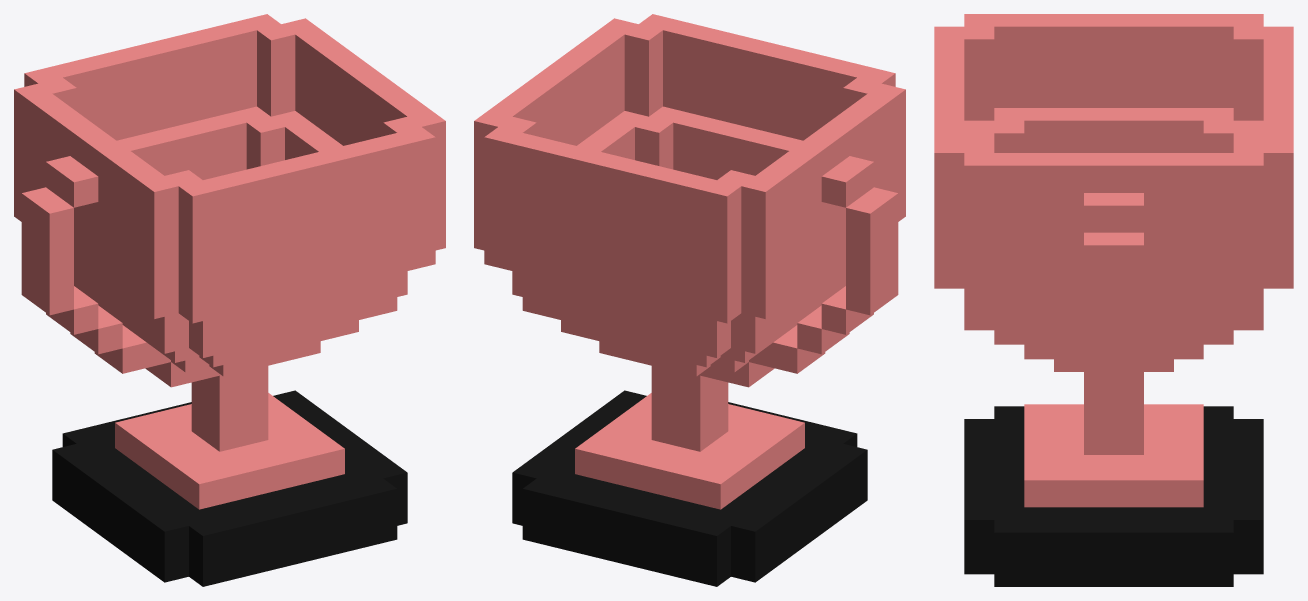
File: Trophy-13.obj
3 renders of one model, left to right at view 1: azimuth 30°, elevation 25°; view 2: azimuth 150°, elevation 25°; view 3: azimuth 270°, elevation 25°, orthographic. The views are drawn at different scales.
Visible parts, largest first — view 1: Trophy-13; view 2: Trophy-13; view 3: Trophy-13.
Boxes of the visible parts, x1,y1,x2,y2 form: Trophy-13: (14,14,445,586); Trophy-13: (474,14,905,586); Trophy-13: (934,14,1293,586).
Size of the model in its own units: 16 by 16 by 12.
Materials: 1 (1 with a texture image).
